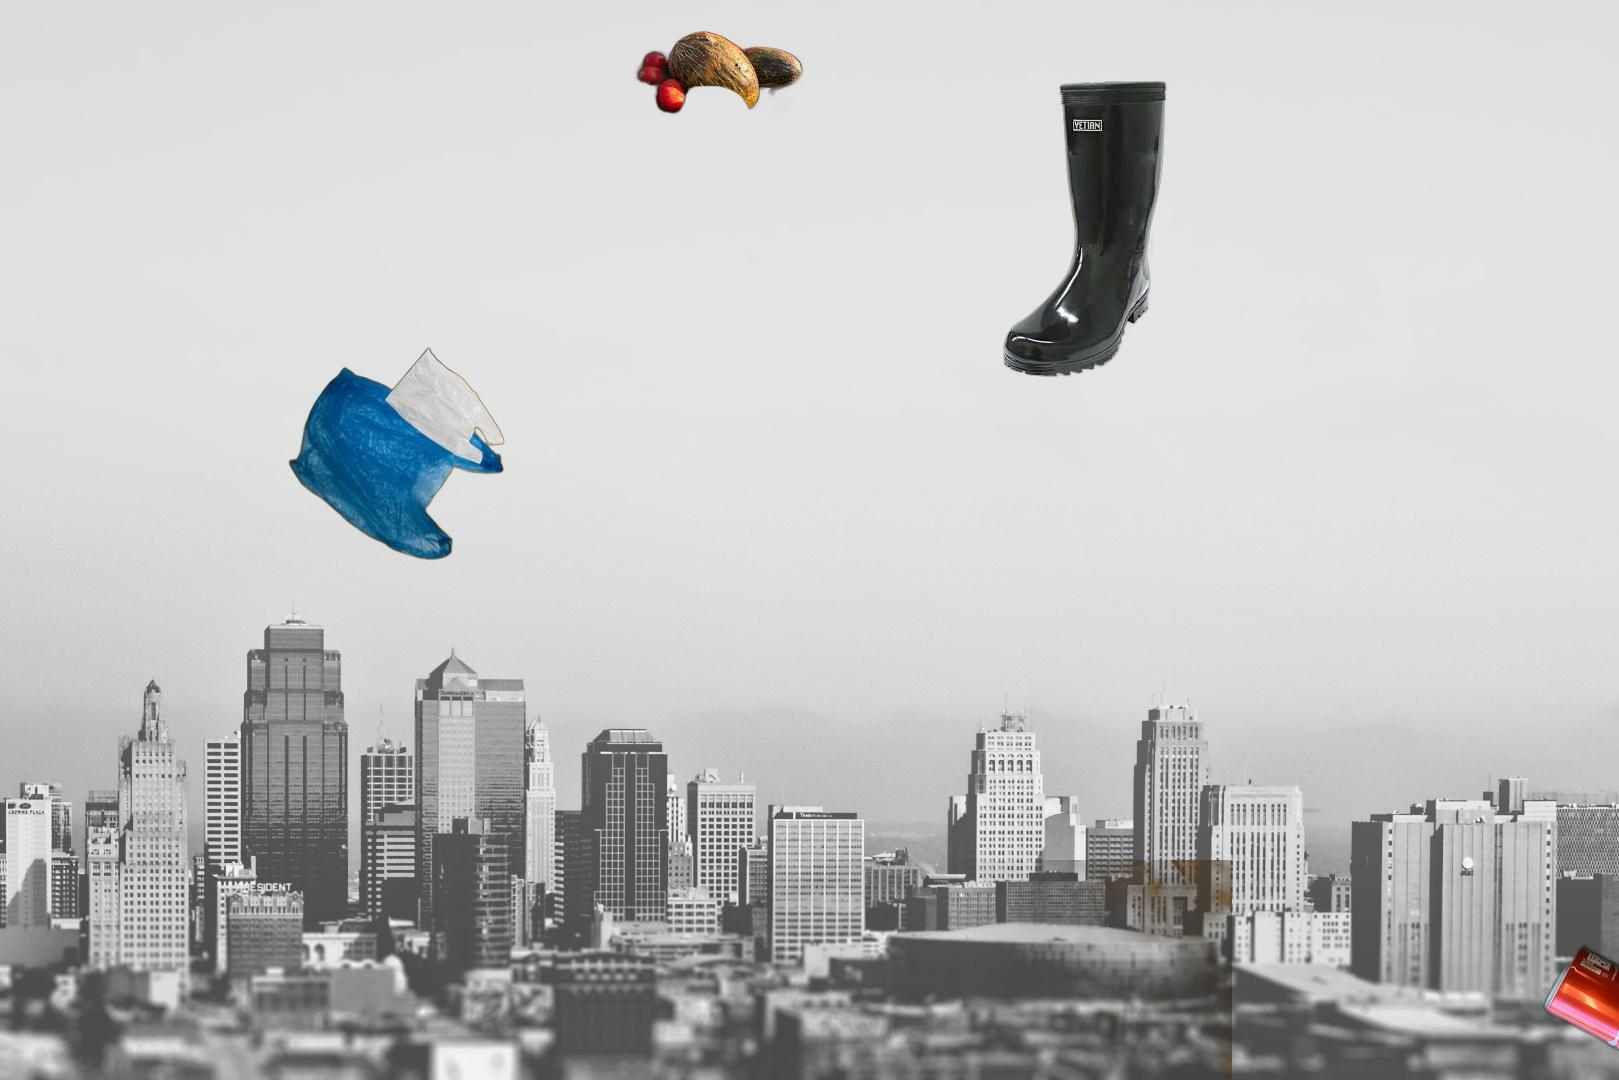biological: (633, 29, 863, 123)
metal-cans: (1539, 939, 1619, 1080)
paper: (720, 859, 1232, 1080)
plastic-bag: (286, 346, 508, 563)
shoes: (1001, 81, 1169, 378)
